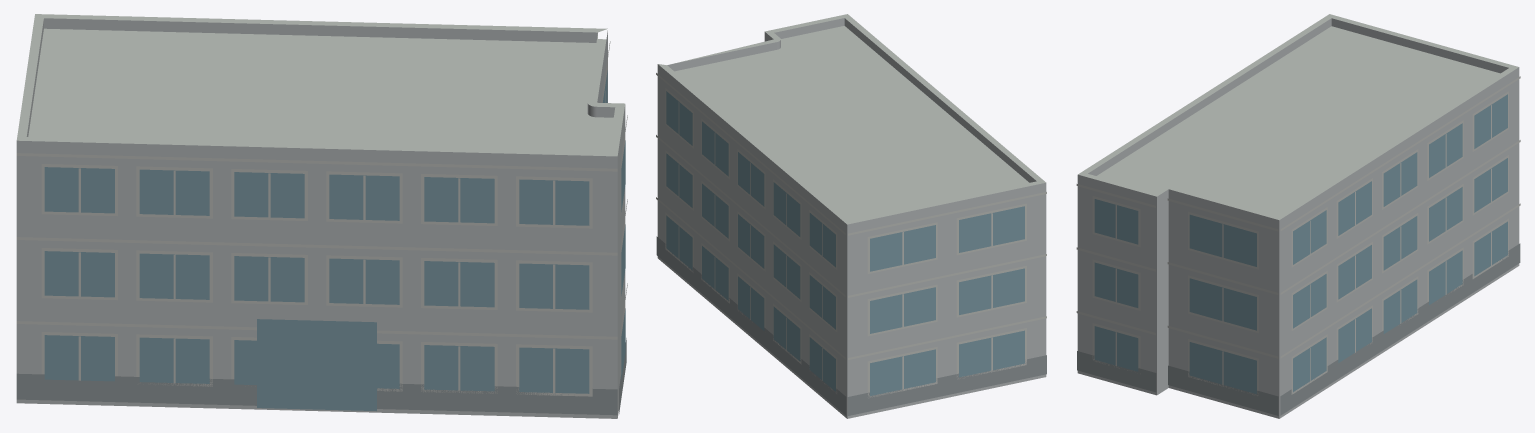
File: public-a63462a7-46b6-4ea1-926f-035efde24d2e.glb
3 renders of one model, left to right at view 1: azimuth 30°, elevation 25°; view 2: azimuth 150°, elevation 25°; view 3: azimuth 270°, elevation 25°, orthographic. The views are drawn at different scales.
Visible parts, largest first — view 1: public-a63462a7-46b6-4ea1-926f-035efde24d2e; view 2: public-a63462a7-46b6-4ea1-926f-035efde24d2e; view 3: public-a63462a7-46b6-4ea1-926f-035efde24d2e.
Part boxes in pixels (bbox=[...]): public-a63462a7-46b6-4ea1-926f-035efde24d2e: bbox=[16, 14, 627, 418]; public-a63462a7-46b6-4ea1-926f-035efde24d2e: bbox=[656, 14, 1046, 418]; public-a63462a7-46b6-4ea1-926f-035efde24d2e: bbox=[1076, 14, 1520, 418].
Size of the model in its own units: 20.48 by 9.15 by 18.54.
